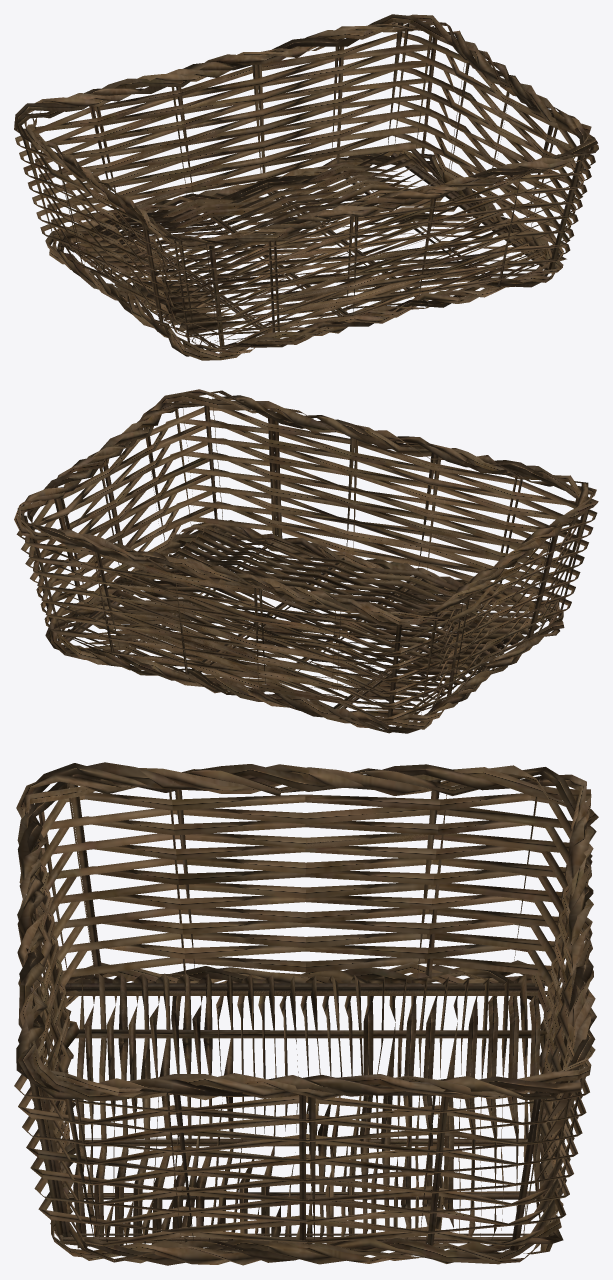
File: wicker_basket_01.glb
3 views of the same model, one above another, from view 1: azimuth 30°, elevation 25°; view 2: azimuth 150°, elevation 25°; view 3: azimuth 270°, elevation 25° (orthographic). The views are drawn at different scales.
Visible parts, largest first — view 1: wicker_basket_01; view 2: wicker_basket_01; view 3: wicker_basket_01.
Boxes of the visible parts, left/top/right/bottom form: wicker_basket_01: left=14, top=14, right=598, bottom=360; wicker_basket_01: left=14, top=389, right=598, bottom=733; wicker_basket_01: left=14, top=762, right=598, bottom=1265.
Size of the model in its own units: 0.383 by 0.1174 by 0.2939.
Materials: 1 (1 with a texture image).
